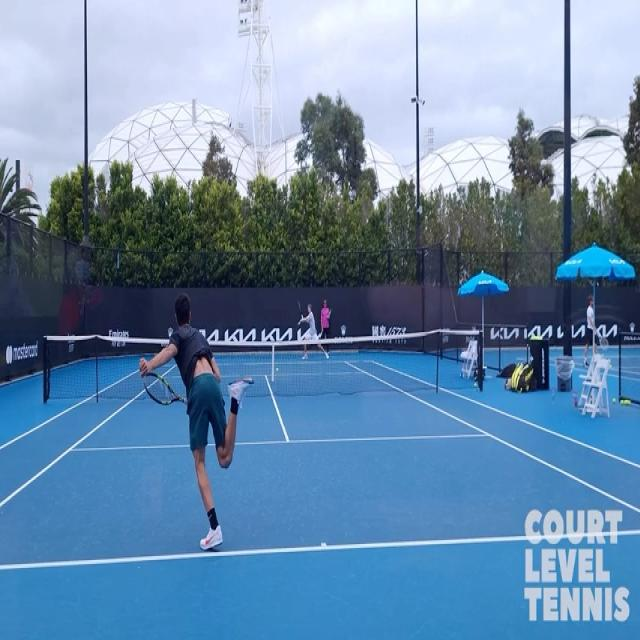serve_followthrough: (140, 269, 257, 554)
